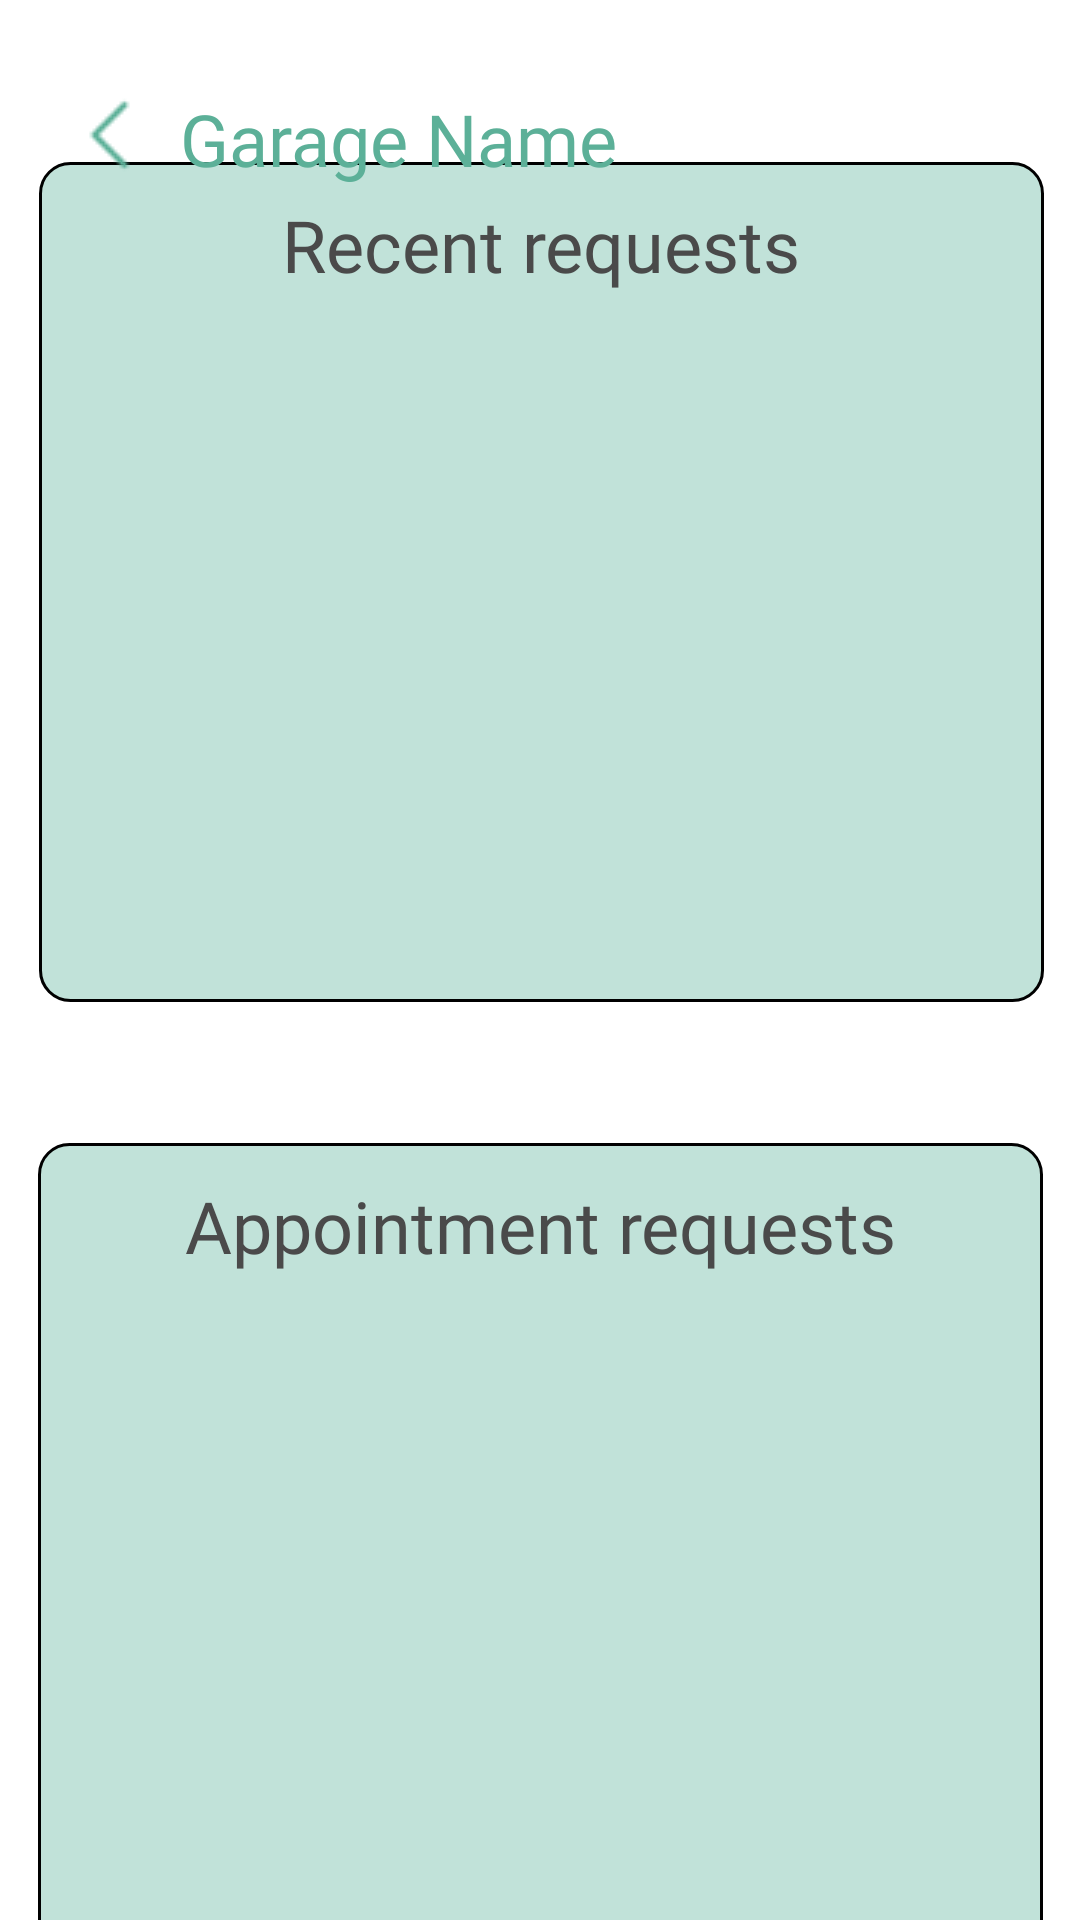

Where to tap for icons on this 1080*1920 app screen, as (x,y):
back: (109,140)
